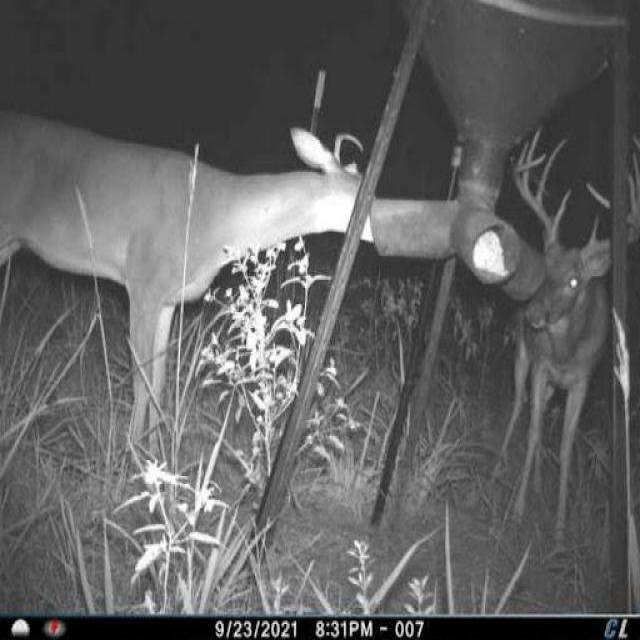deer: (0, 114, 379, 479), (502, 120, 640, 543)
